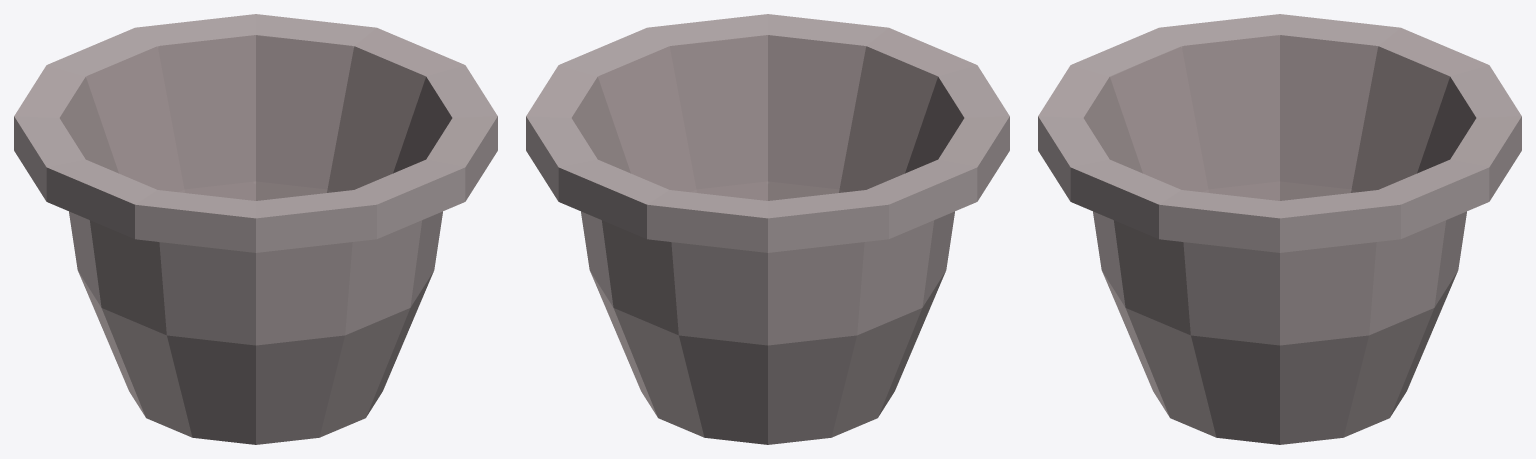
The model's file is Bucket.fbx.
3 views of the same model, side by side, from view 1: azimuth 30°, elevation 25°; view 2: azimuth 150°, elevation 25°; view 3: azimuth 270°, elevation 25° (orthographic).
Parts seen in each view (by area): view 1: Bucket; view 2: Bucket; view 3: Bucket.
Part boxes in pixels (<box>): Bucket: <box>14,14,497,444</box>; Bucket: <box>526,14,1009,444</box>; Bucket: <box>1038,14,1521,444</box>.
Bounding box in the file's own units: 74.25 × 46.6 × 74.25.
